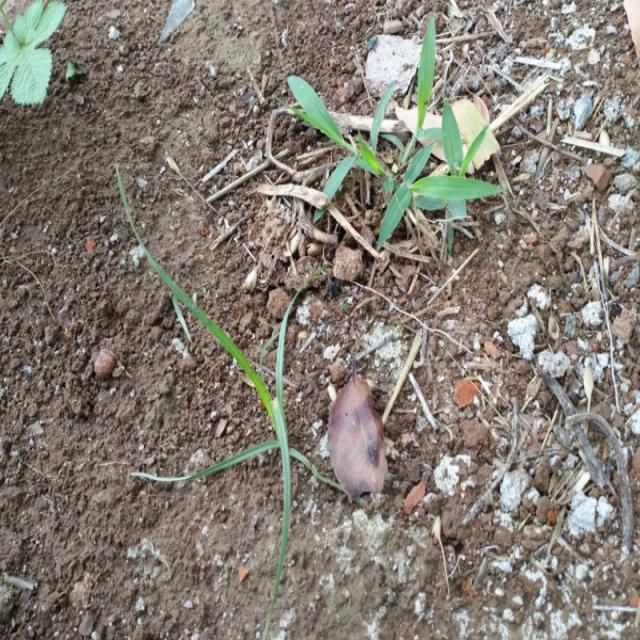sedge: (110, 214, 352, 580)
